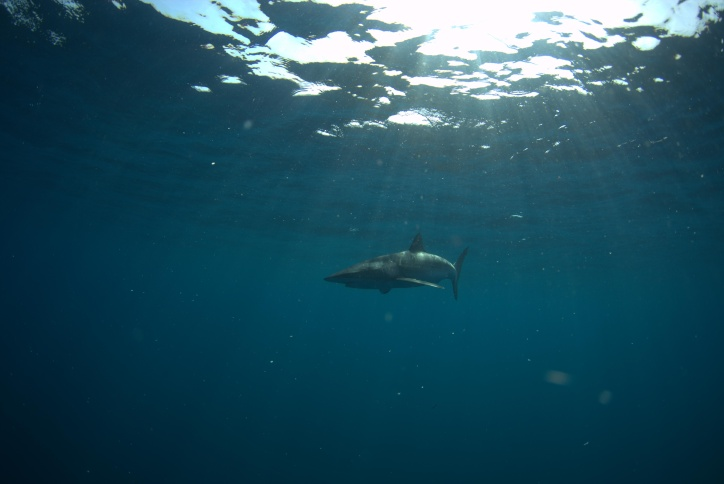Sedoso: (290, 226, 485, 312)
